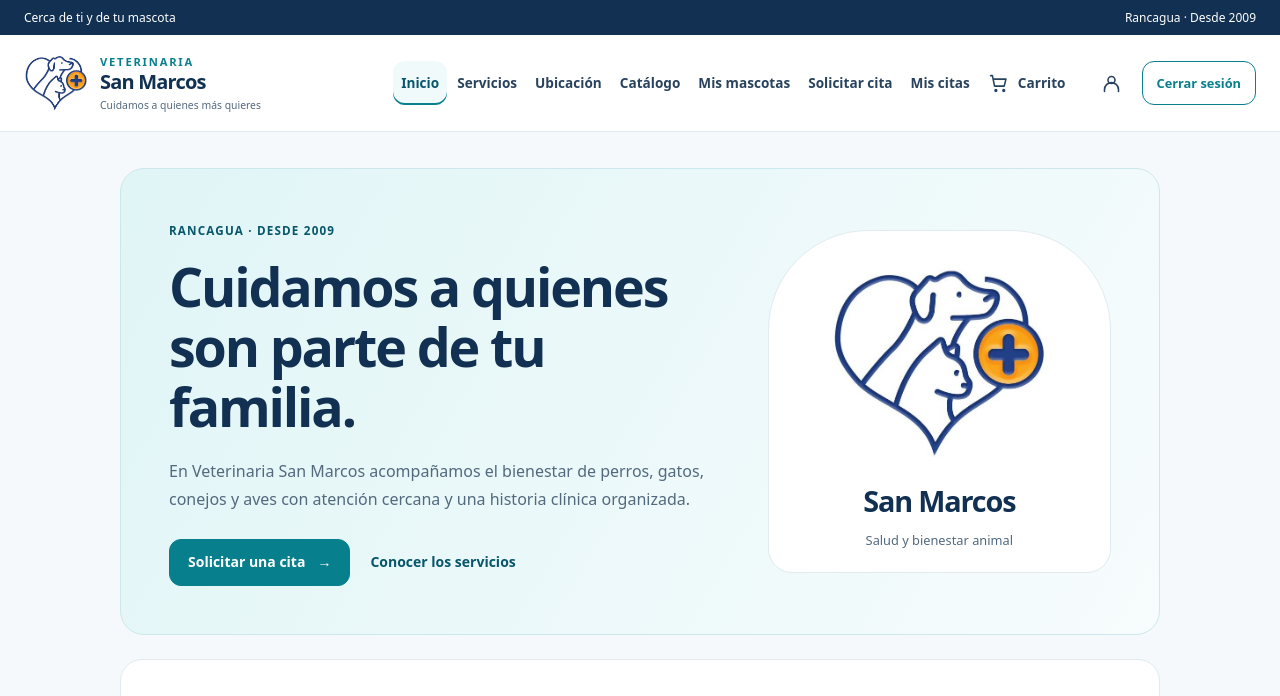
Test: Accesos de carrito y perfil en el navbar › deja el carrito al final y mueve el perfil al nombre de Cliente
The image size is (1280, 696).
Expected: the link "Mi perfil" is not shown
Click the link named "Ver perfil de Cliente": (1112, 83) [1101,73,1122,94]
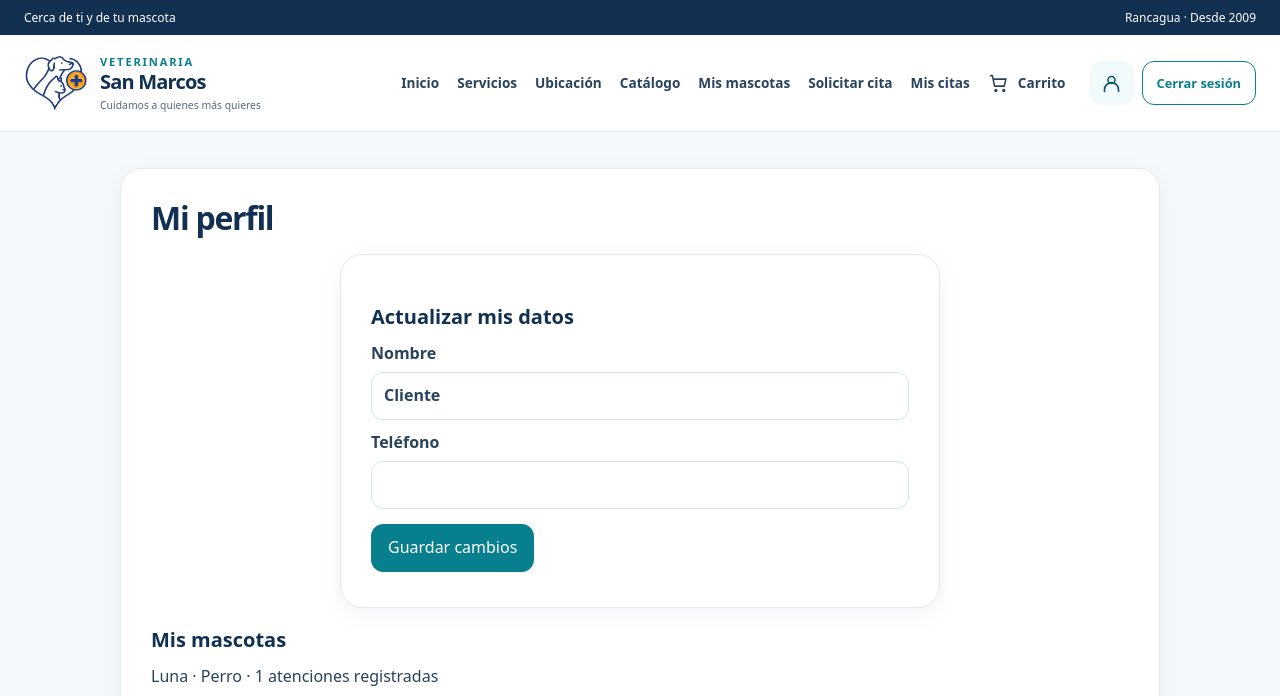
Now the heading "Mi perfil" is shown, box [151,196,273,239]
